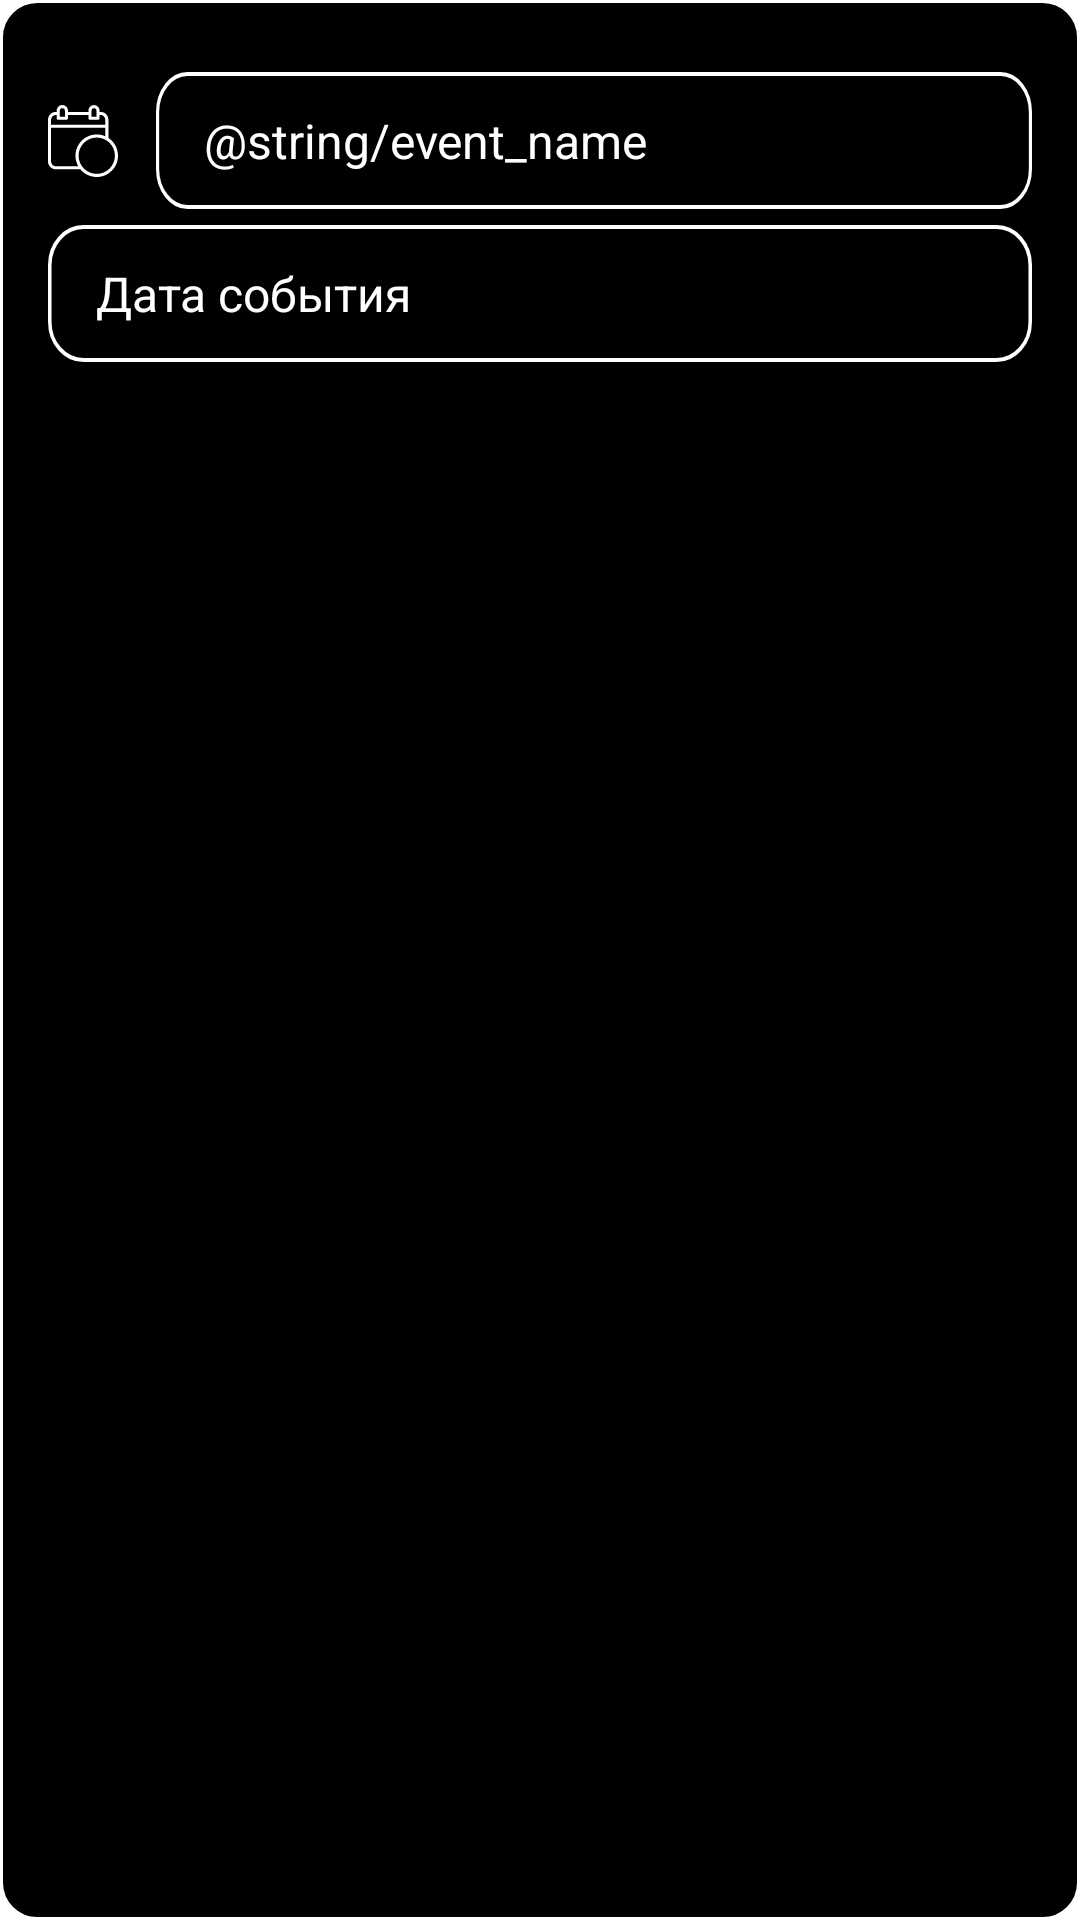

Icon bounding boxes for this 1080 x 1920 phone screenshot, format box=[x1, y1, x2, y2]:
calendar: box=[48, 105, 118, 177]
